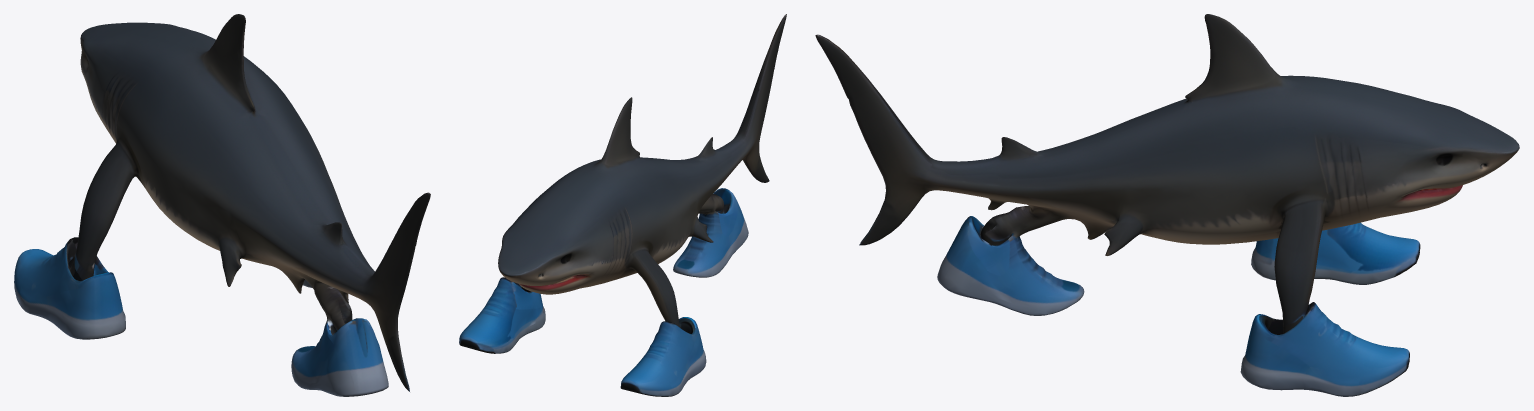
The model's file is TralaleroAstrale.fbx.
3 renders of one model, left to right at view 1: azimuth 30°, elevation 25°; view 2: azimuth 150°, elevation 25°; view 3: azimuth 270°, elevation 25°, orthographic. The views are drawn at different scales.
Visible parts, largest first — view 1: TralaleroAstrale; view 2: TralaleroAstrale; view 3: TralaleroAstrale.
Boxes of the visible parts, <box> form: TralaleroAstrale: <box>14,14,430,396</box>; TralaleroAstrale: <box>459,14,786,396</box>; TralaleroAstrale: <box>815,14,1519,396</box>.
Size of the model in its own units: 2.37 by 2.44 by 5.
1 material, 1 textured.
